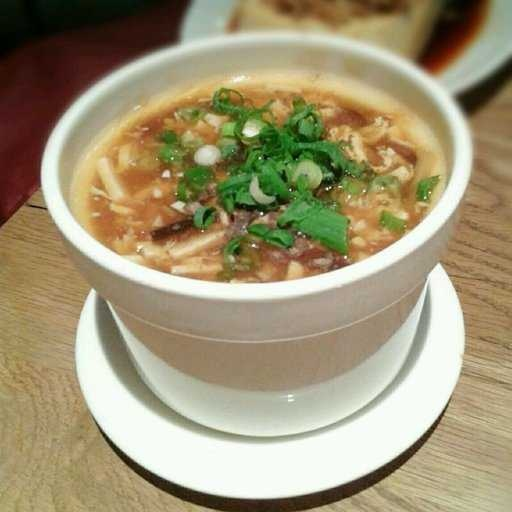soup: (76, 42, 425, 308)
